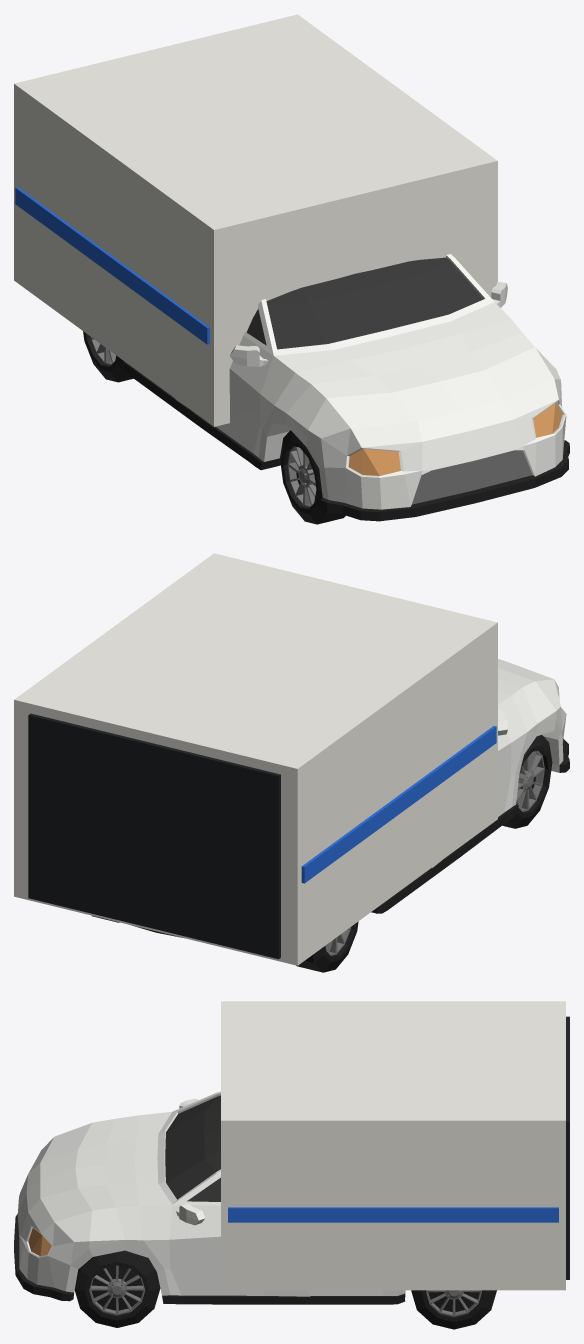
File: box-van.glb
3 renders of one model, top to bottom at view 1: azimuth 30°, elevation 25°; view 2: azimuth 150°, elevation 25°; view 3: azimuth 270°, elevation 25°, orthographic. The views are drawn at different scales.
Parts seen in each view (by area): view 1: SUV; view 2: SUV; view 3: SUV.
Part boxes in pixels (x1,y1,x2,y2): SUV: (14, 14, 569, 524); SUV: (14, 553, 569, 972); SUV: (14, 1001, 569, 1329).
Bounding box in the file's own units: 2.2 × 1.85 × 4.24.
